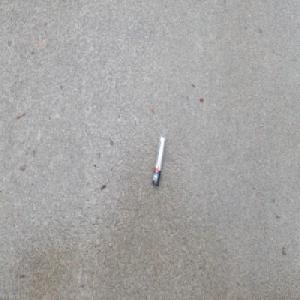Battery: (151, 133, 165, 187)
